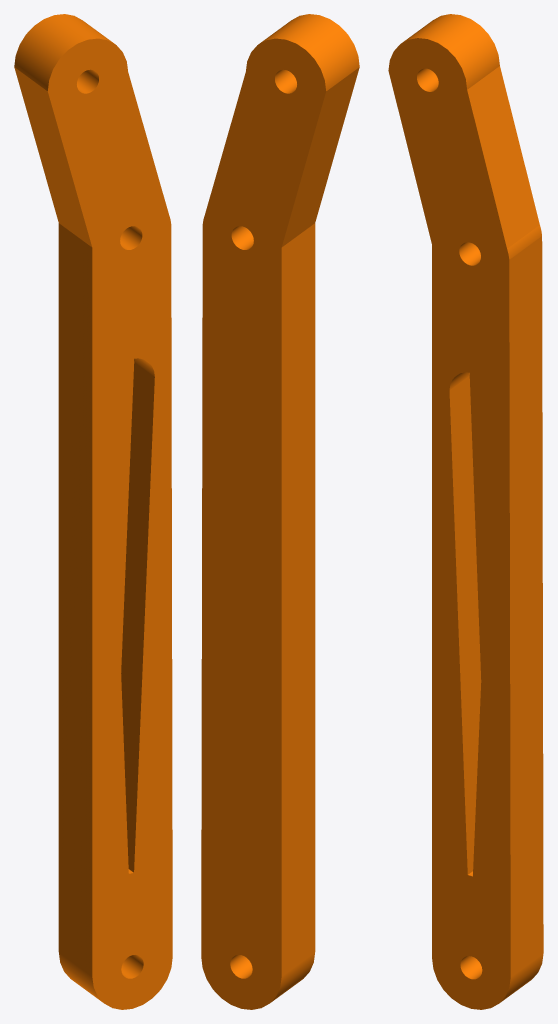
The model's file is outer_pitch_back.dae.
The picture shows the model from 3 angles, left to right: view 1: azimuth 30°, elevation 25°; view 2: azimuth 150°, elevation 25°; view 3: azimuth 330°, elevation 25°; orthographic projection. The views are drawn at different scales.
Parts seen in each view (by area): view 1: Actor0; view 2: Actor0; view 3: Actor0.
Boxes of the visible parts, left/top/right/bottom form: Actor0: left=14, top=14, right=172, bottom=1009; Actor0: left=201, top=14, right=359, bottom=1009; Actor0: left=388, top=14, right=543, bottom=1009.
Bounding box in the file's own units: 0.028 × 0.2096 × 0.013.
